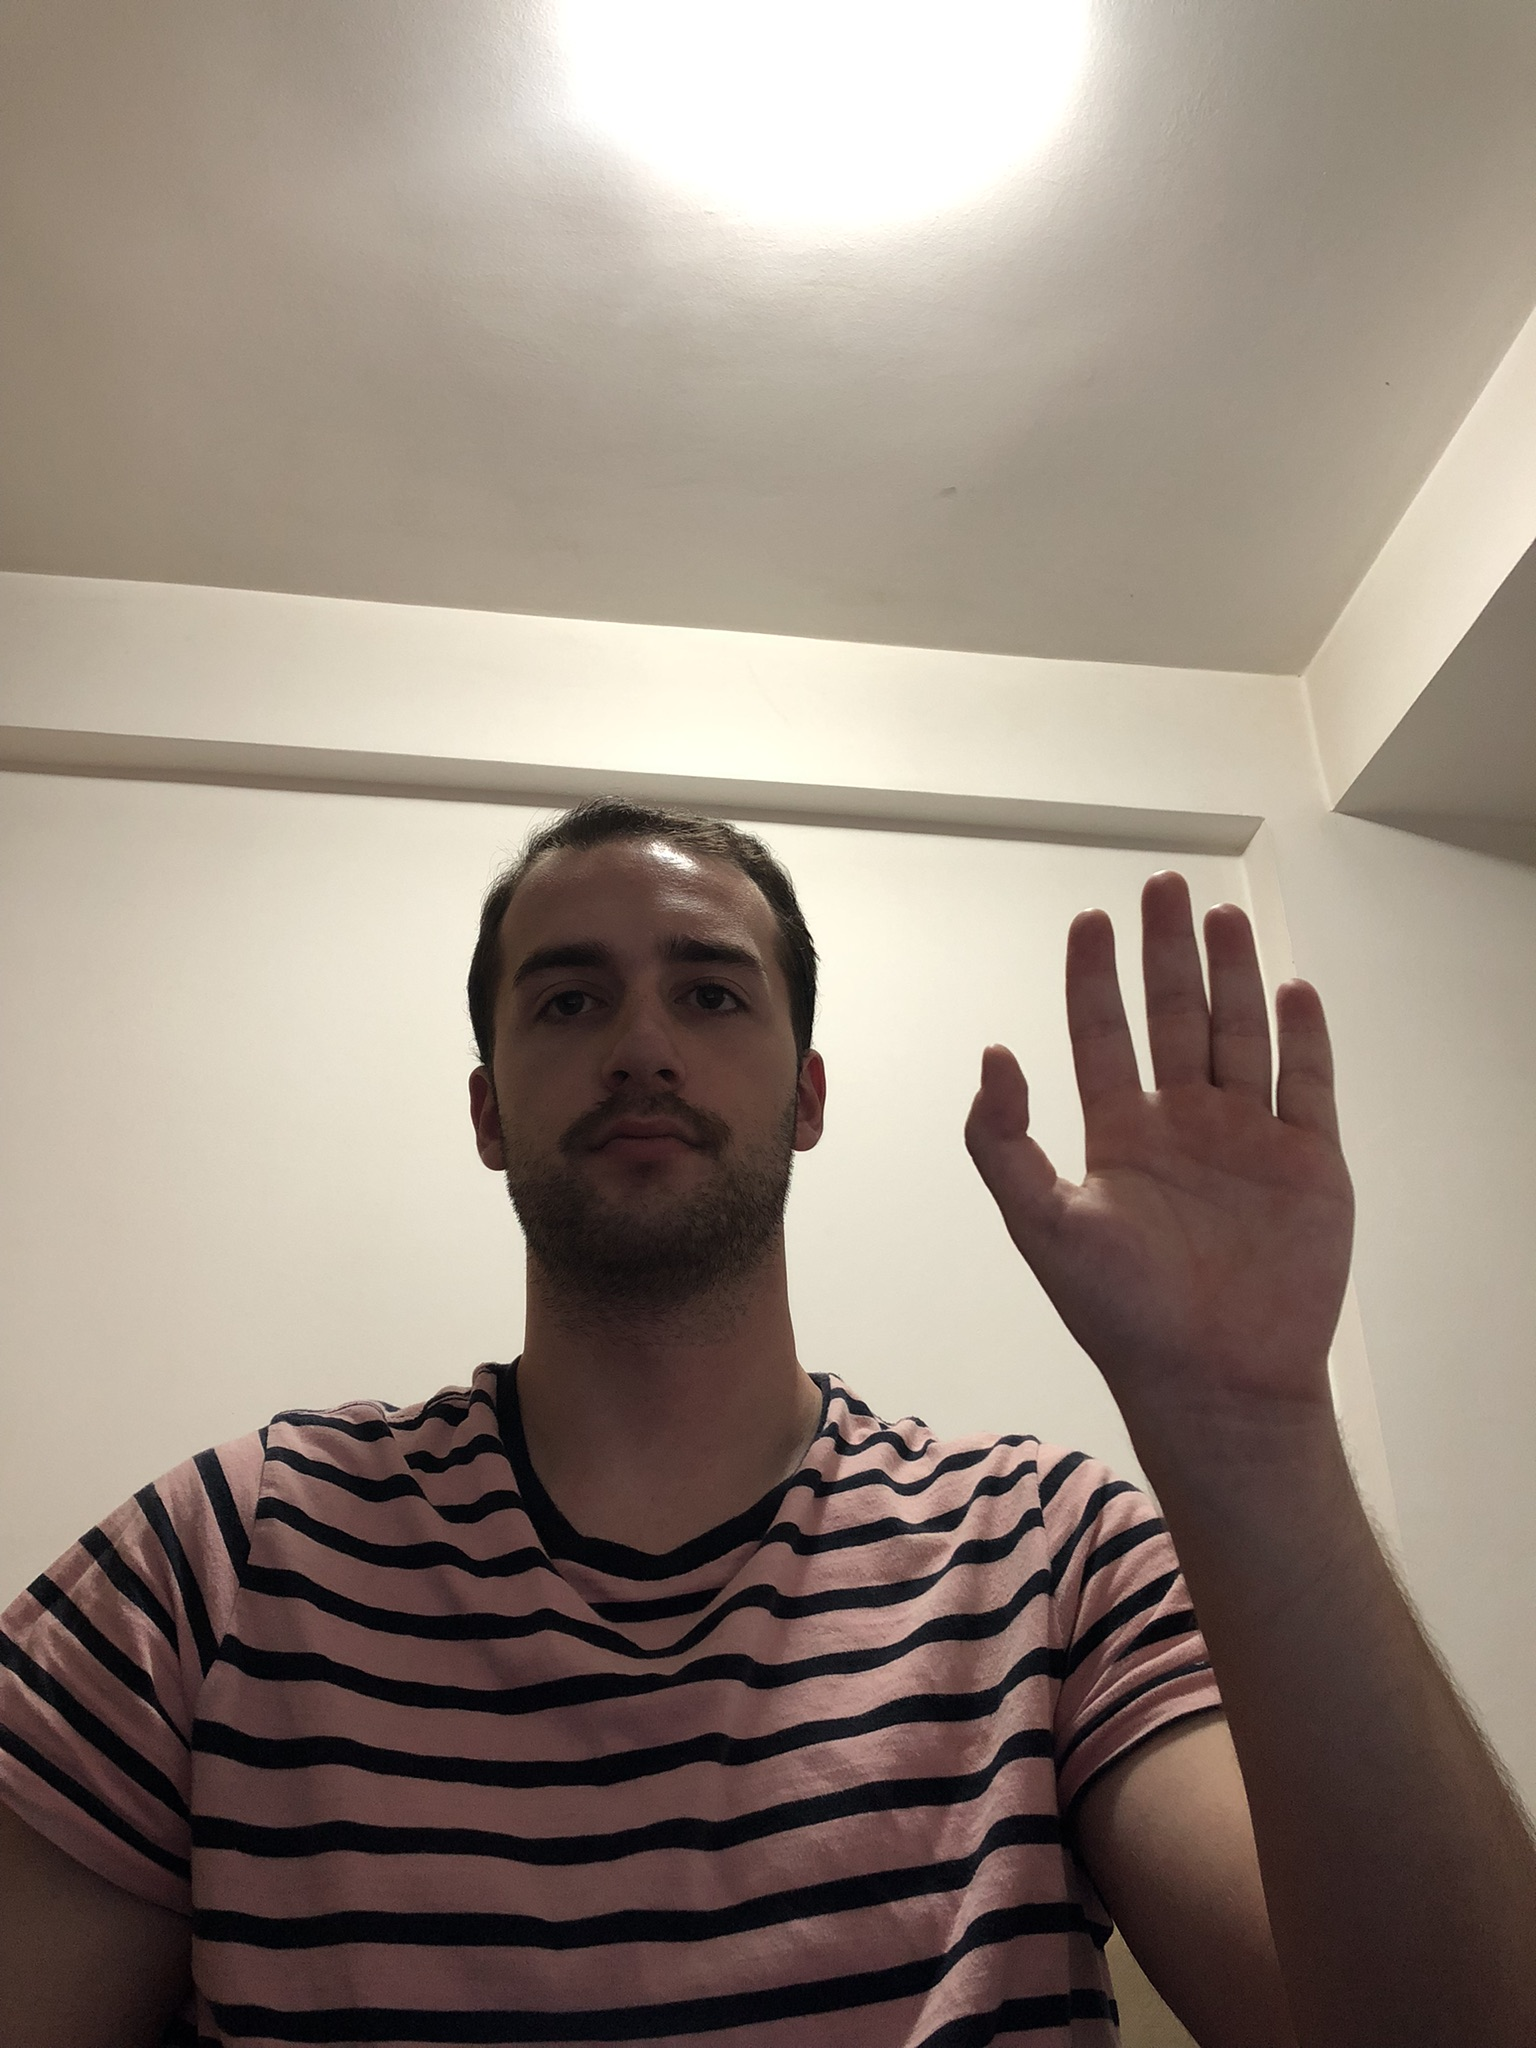Hello: (962, 863, 1373, 1464)
